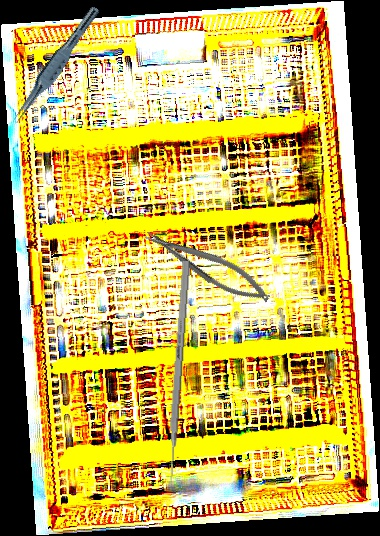Needle Holder: (140, 218, 276, 313)
Pusher: (165, 260, 191, 491)
Tissue Forceps: (9, 1, 101, 129)
